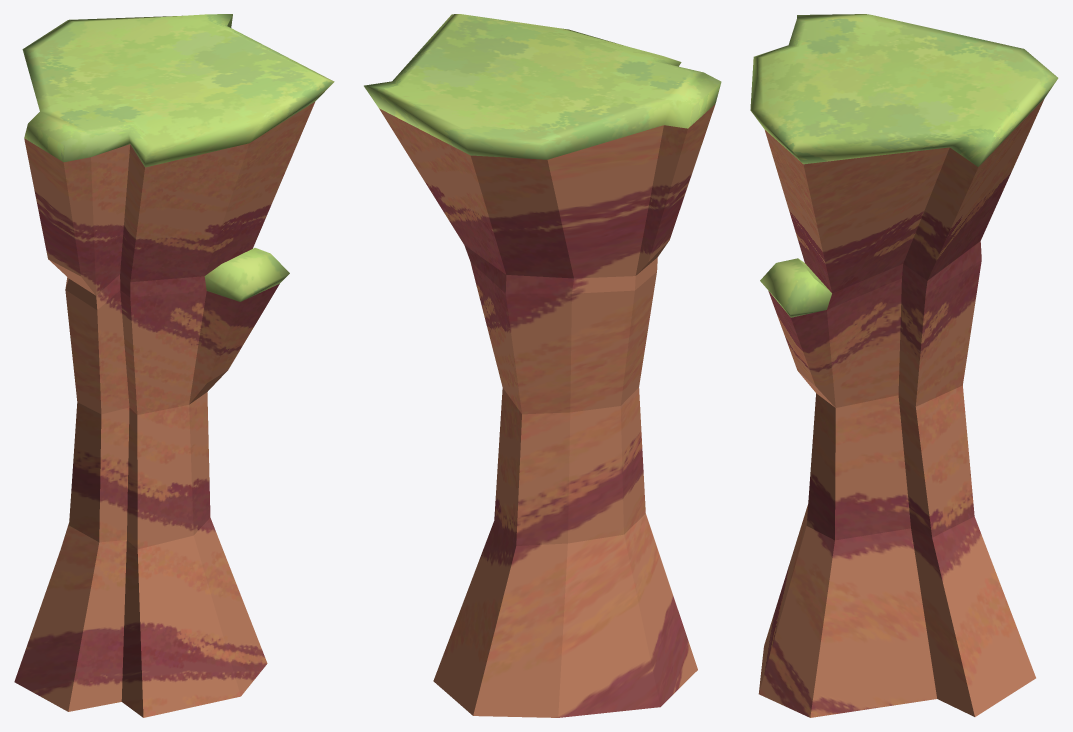
File: rock9.fbx
3 views of the same model, side by side, from view 1: azimuth 30°, elevation 25°; view 2: azimuth 150°, elevation 25°; view 3: azimuth 270°, elevation 25° (orthographic). The views are drawn at different scales.
Parts seen in each view (by area): view 1: rock9; view 2: rock9; view 3: rock9.
Boxes of the visible parts, x1,y1,x2,y2 form: rock9: (14, 14, 334, 717); rock9: (364, 14, 721, 717); rock9: (750, 14, 1058, 717).
Size of the model in its own units: 414 by 850 by 391.
